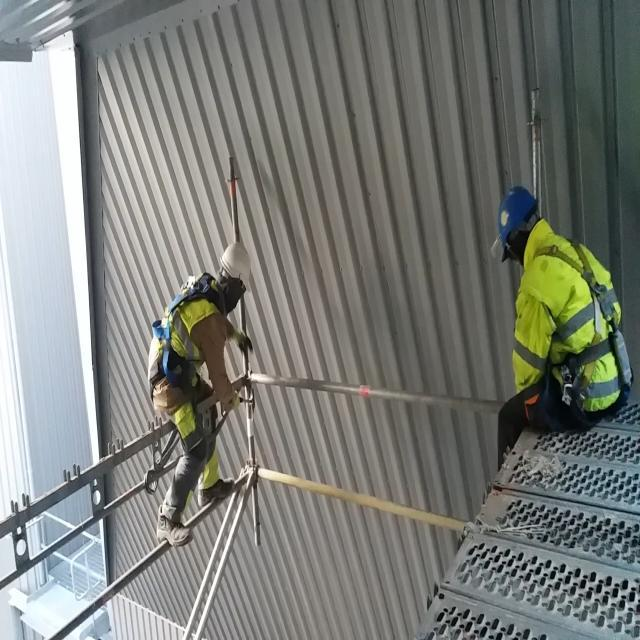belt: (534, 228, 622, 412), (148, 268, 227, 412)
